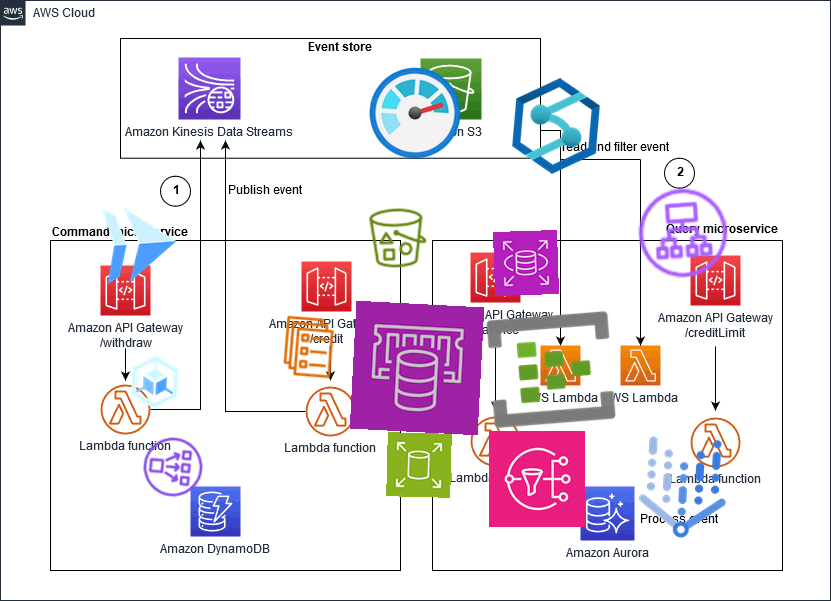aws_amazon_elastic_block_store: (386, 432, 452, 498)
aws_amazon_elasticache: (349, 300, 485, 436)
aws_amazon_rds: (492, 229, 560, 297)
aws_amazon_simple_notification_service: (488, 430, 586, 528)
aws_elastic_container_service_service: (274, 312, 344, 382)
aws_elastic_load_balancing_application_load_balancer: (631, 181, 735, 285)
aws_elastic_load_balancing_network_load_balancer: (138, 432, 208, 502)
aws_simple_storage_service_bucket_with_objects: (365, 205, 431, 271)
azure_event_hubs: (482, 300, 620, 438)
azure_monitor: (363, 61, 467, 165)
azure_synapse_analytics: (504, 74, 608, 178)
gcp_cloud_run: (87, 192, 191, 296)
gcp_google_kubernetes_engine: (121, 348, 189, 416)
gcp_vertex_ai: (615, 420, 751, 556)
